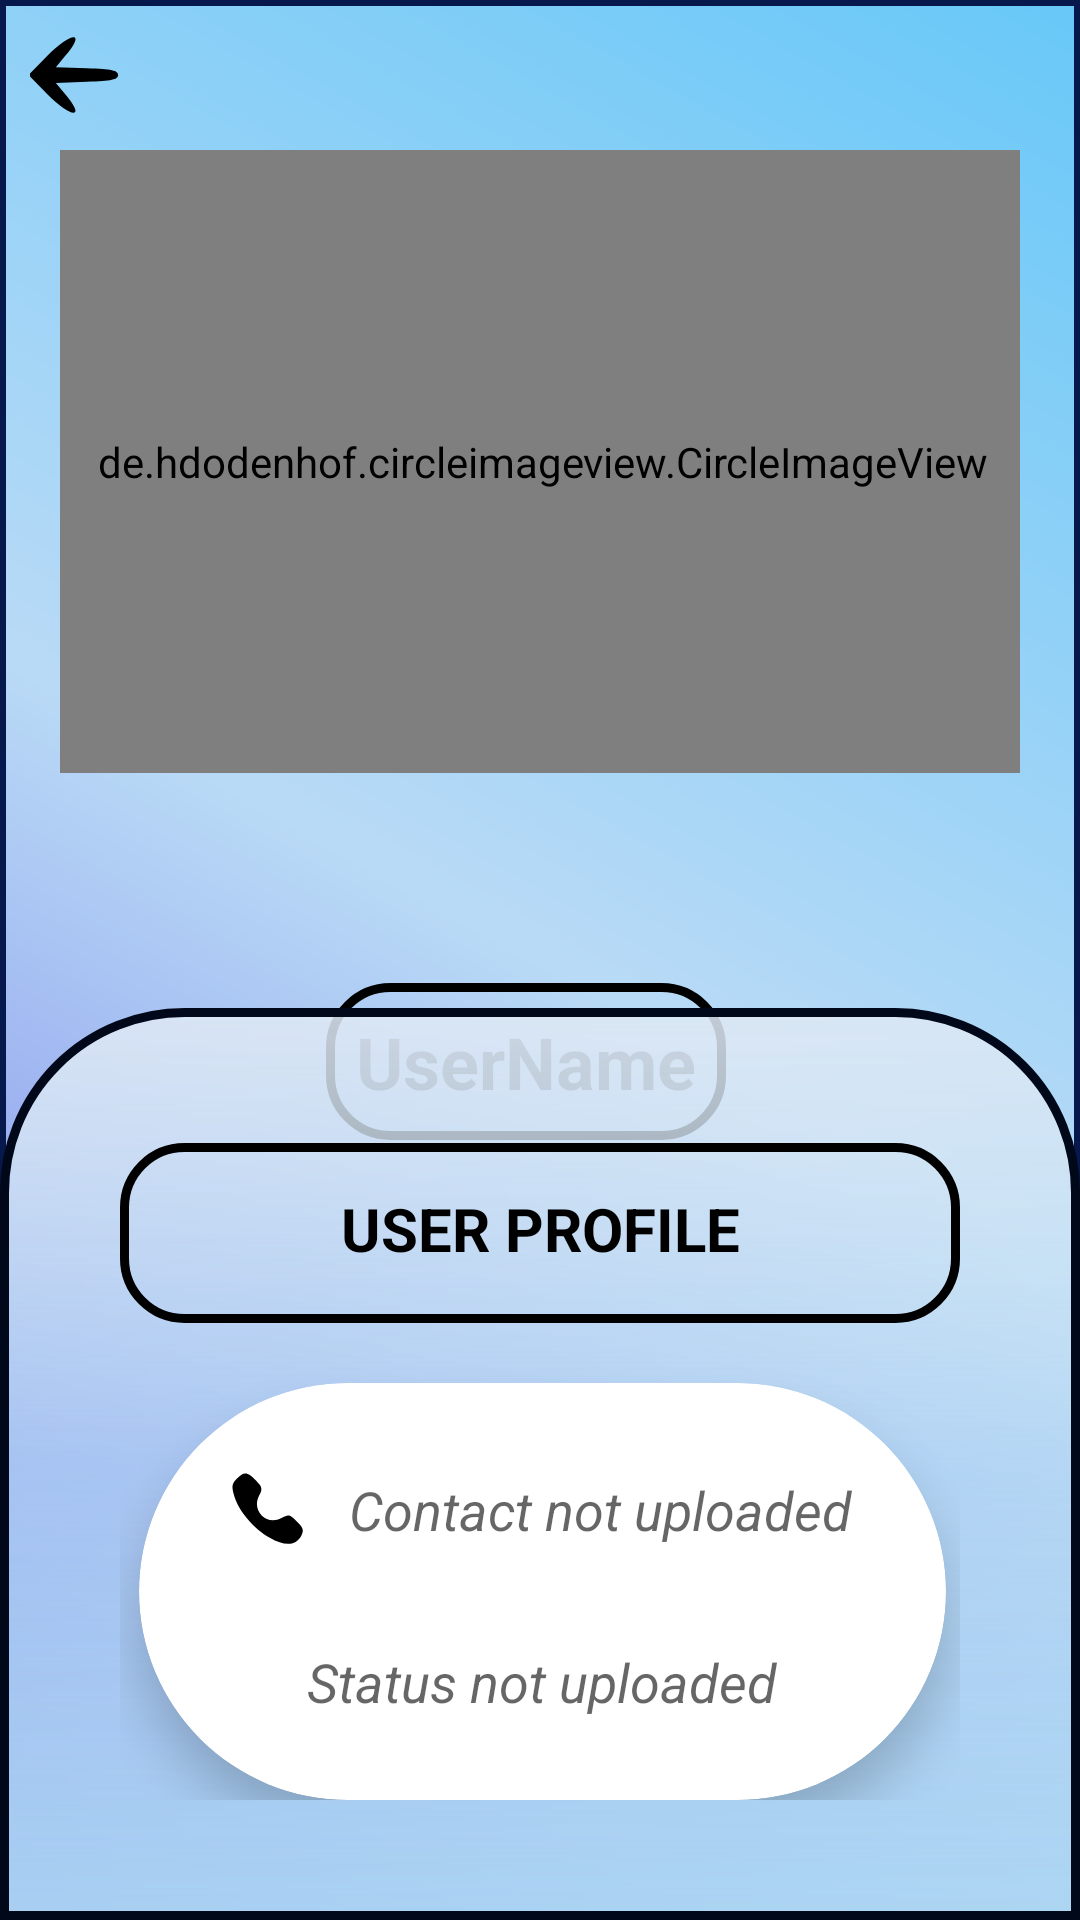

Screen size 1080*1920. Icon name, then its box in pixels as (x1, y1, x2, y2):
arrow left: (30, 37, 118, 113)
